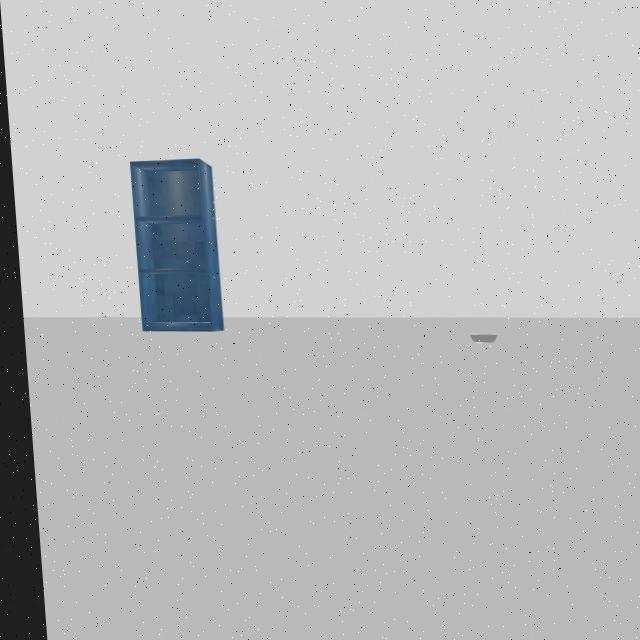bowl: (457, 324, 505, 354)
shelf: (116, 146, 233, 344)
